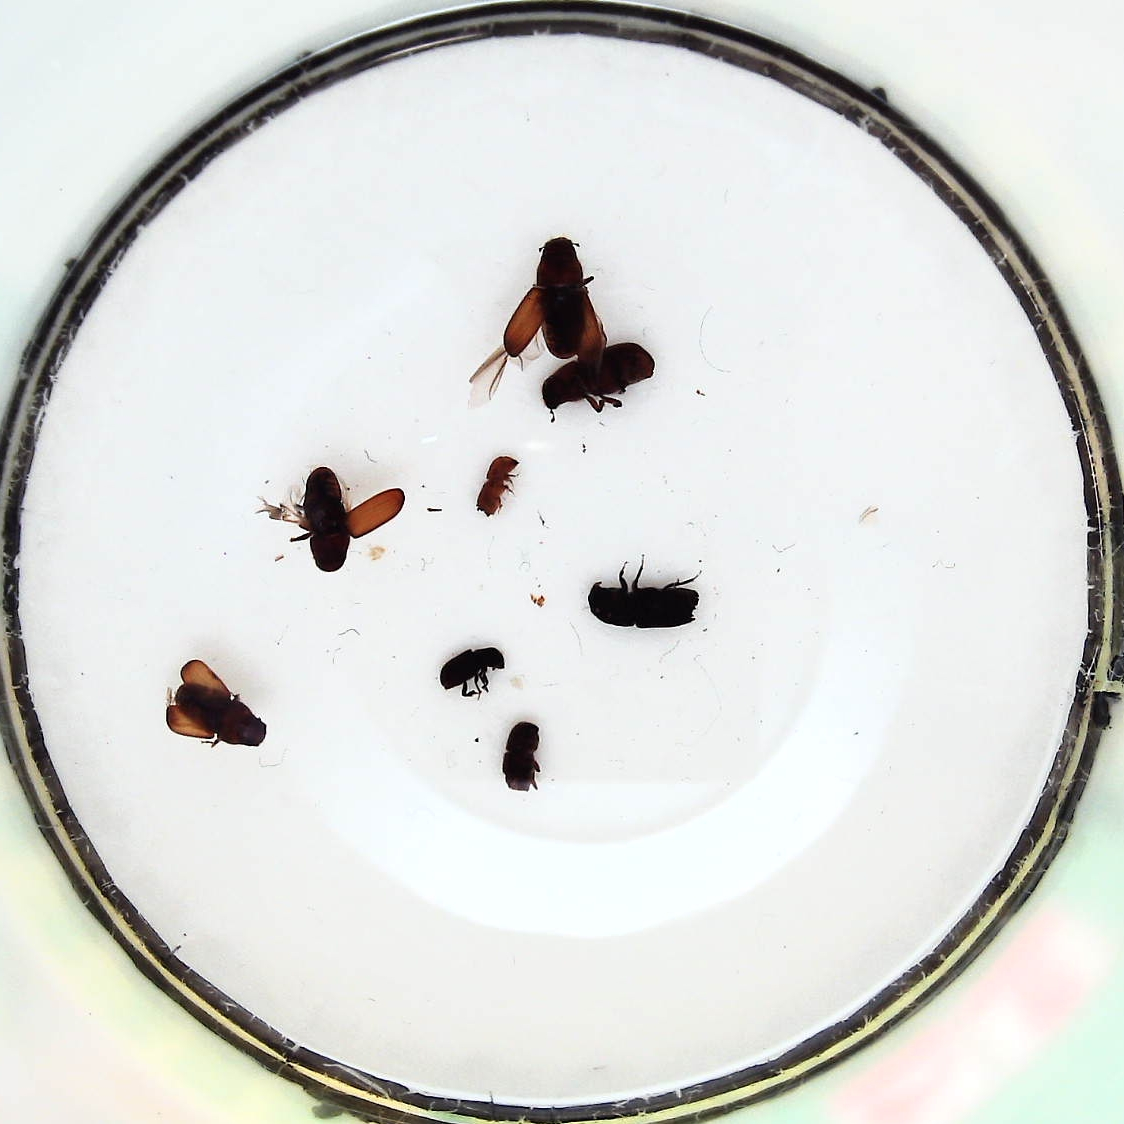Boerner: (584, 561, 704, 633)
Leconte: (265, 466, 405, 572), (501, 236, 608, 361), (163, 658, 270, 752), (542, 343, 653, 418)
Linnaeus: (500, 721, 545, 794)
acuminatus: (473, 455, 521, 521)
armandi: (437, 646, 505, 703)
